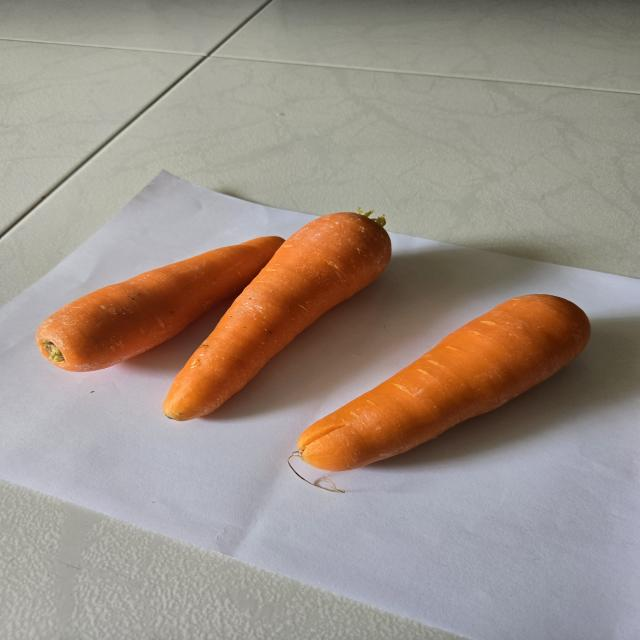carrot: (293, 282, 617, 482), (150, 206, 402, 432), (30, 233, 298, 383)
